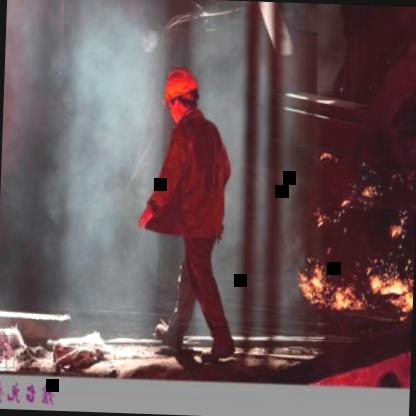helmet: (160, 66, 202, 124)
